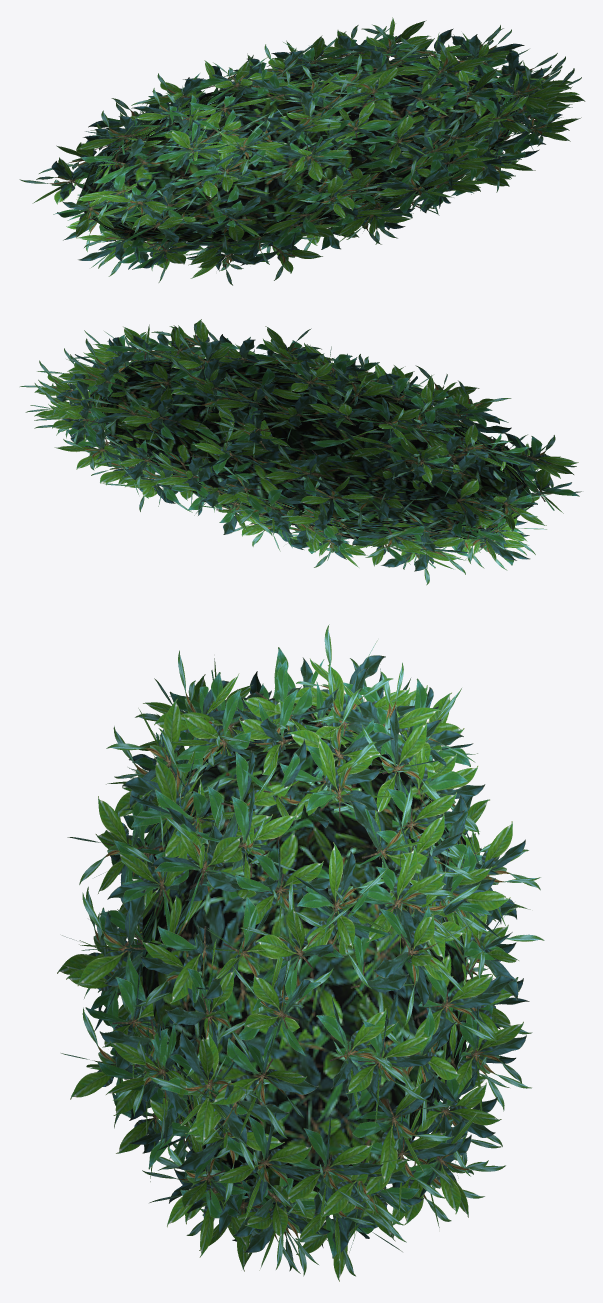
File: Hedge_SoftStrip.fbx
3 views of the same model, one above another, from view 1: azimuth 30°, elevation 25°; view 2: azimuth 150°, elevation 25°; view 3: azimuth 270°, elevation 25° (orthographic). The views are drawn at different scales.
Visible parts, largest first — view 1: Hedge_SoftStrip; view 2: Hedge_SoftStrip; view 3: Hedge_SoftStrip.
Boxes of the visible parts, <box> form: Hedge_SoftStrip: <box>19,17,585,285</box>; Hedge_SoftStrip: <box>20,319,581,585</box>; Hedge_SoftStrip: <box>57,624,544,1281</box>.
Bounding box in the file's own units: 1.25 × 0.45 × 0.5.
1 material, 1 textured.
